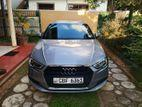car: (29, 21, 109, 96)
